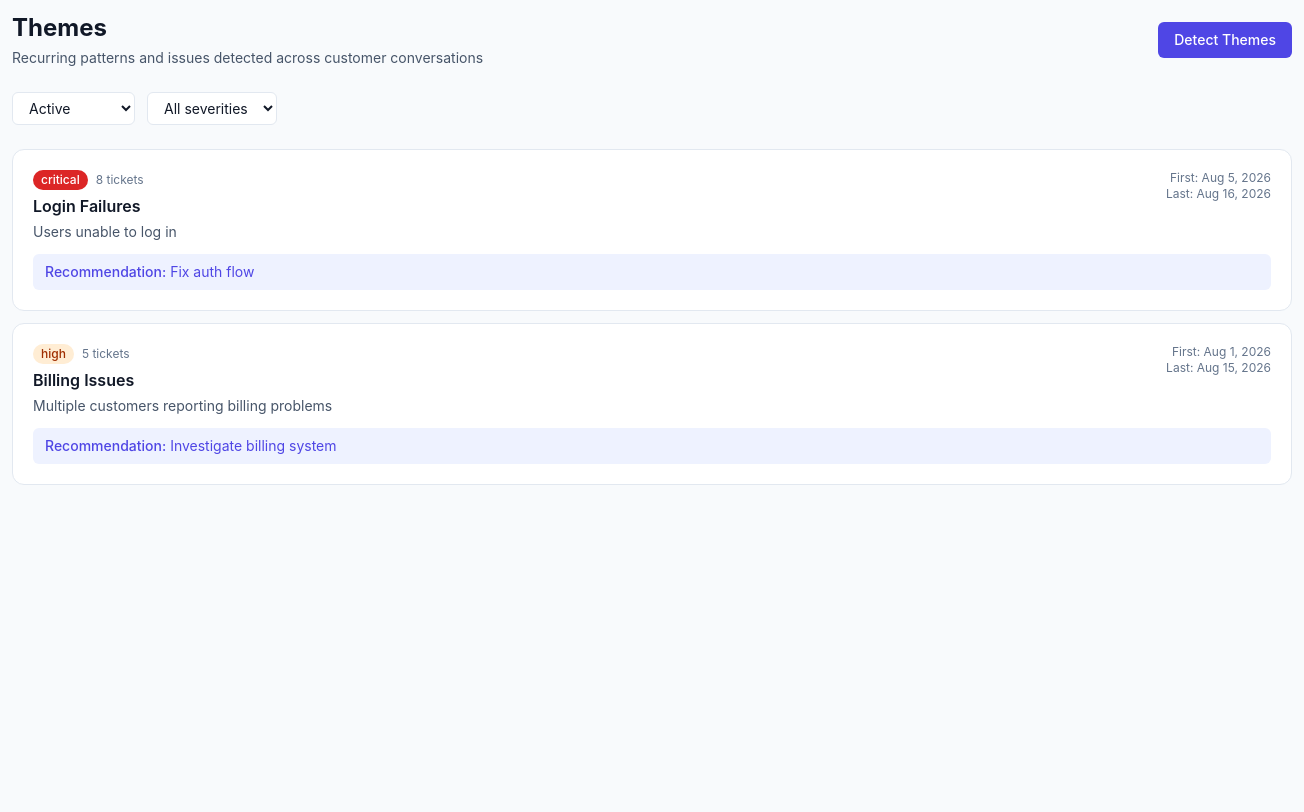
Test: ThemesPage › shows detection error with retry
The image size is (1304, 812).
Click the button "Detect Themes": (1225,40) x1=1158 y1=22 x2=1292 y2=58
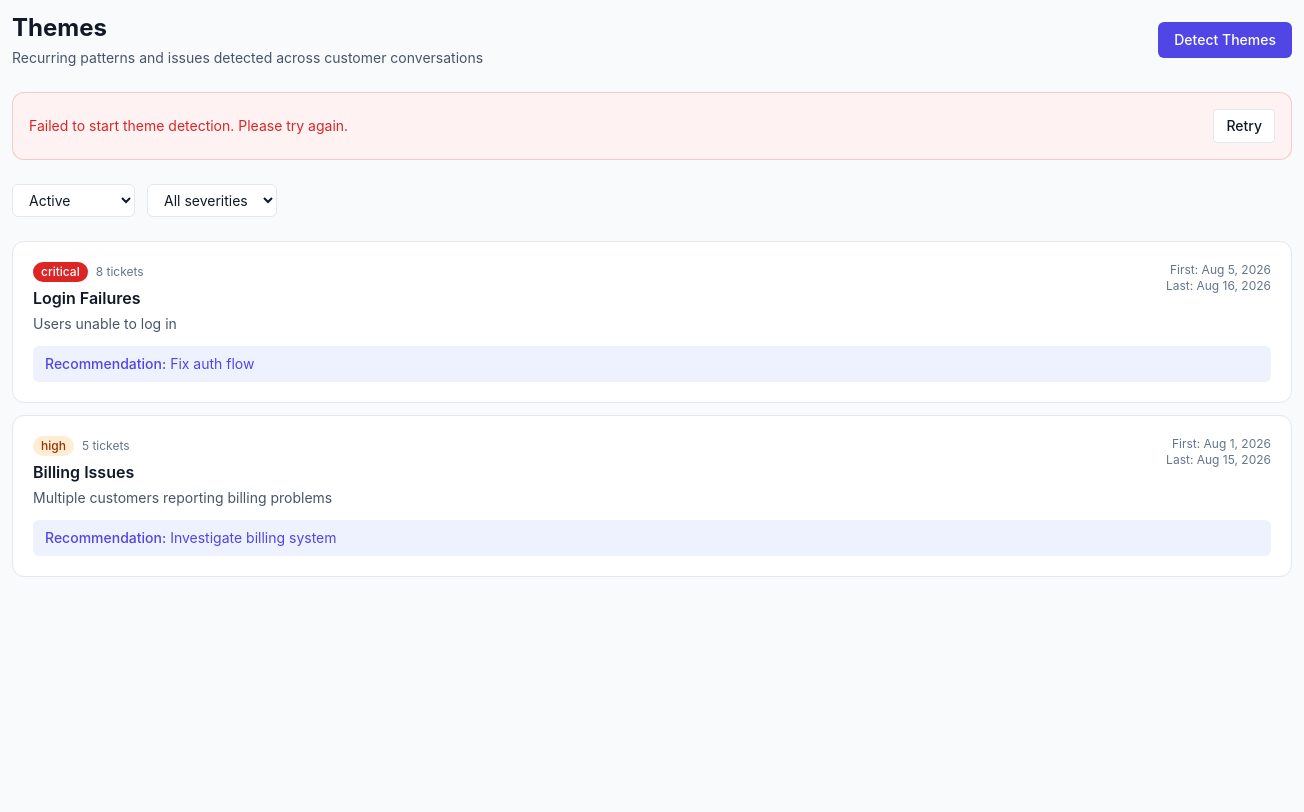
Now the text "Failed to start theme detection" is shown, box x1=29 y1=117 x2=348 y2=134
Now the button "Retry" is shown, box x1=1213 y1=109 x2=1275 y2=143
